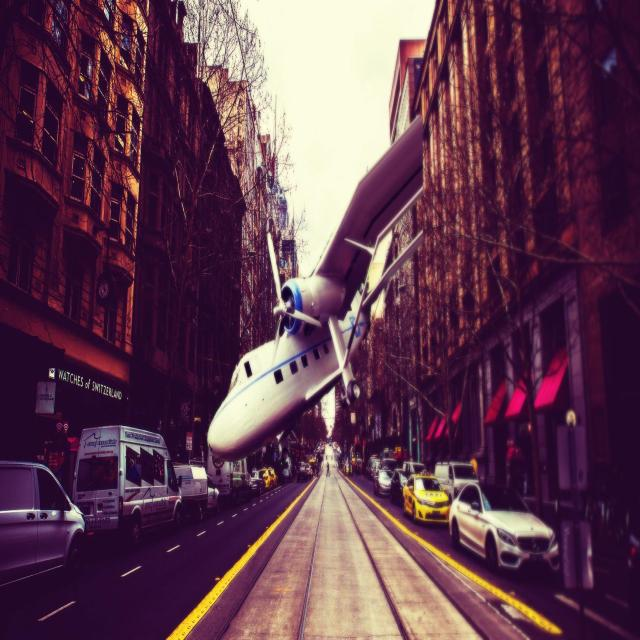airplane: (206, 112, 425, 464)
